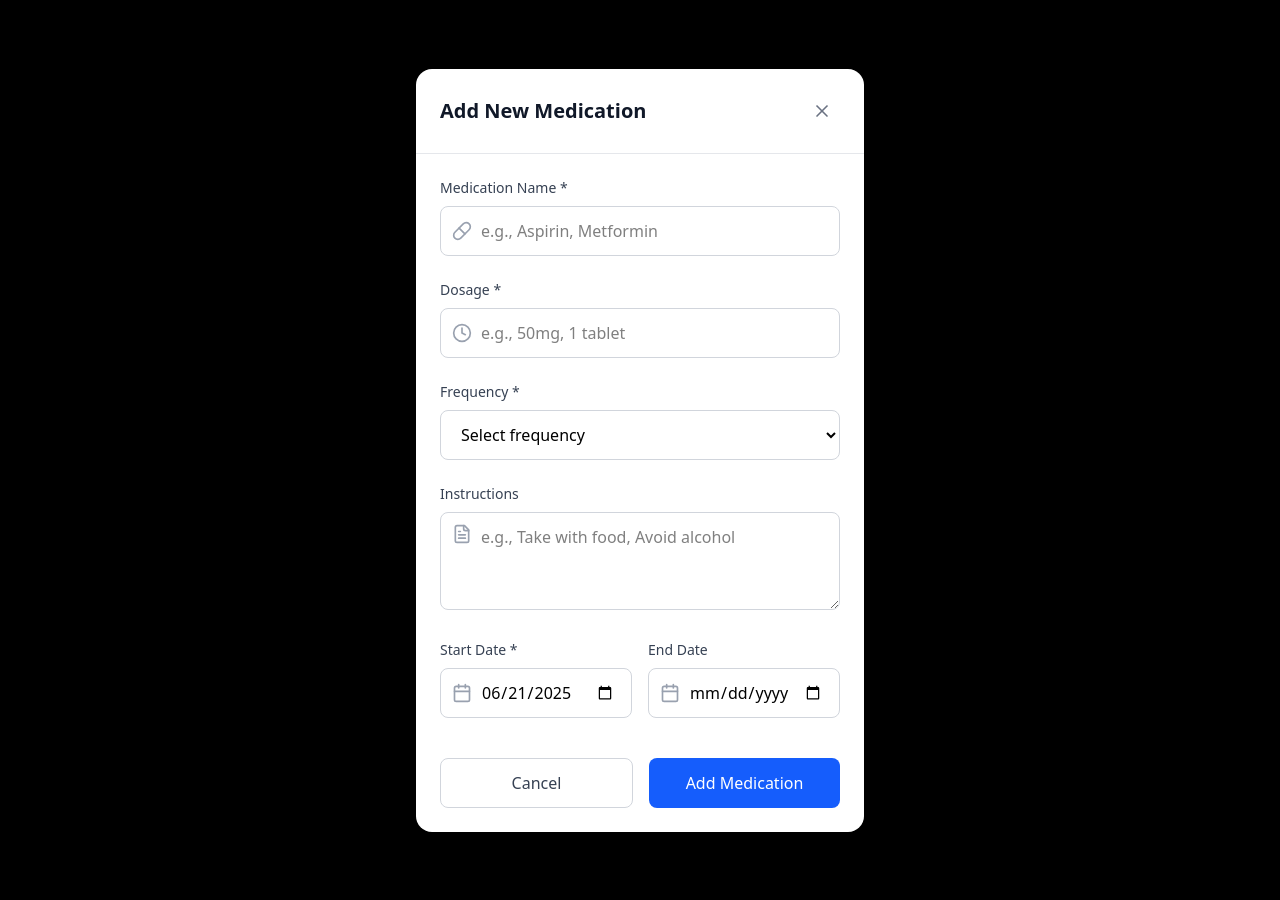
Test: MedicationForm › shows validation errors for required fields
What coordinates should you click on to do the following:
click the button "Add Medication"
I would click on:
 (744, 782)
Its box is [649,758,840,808].
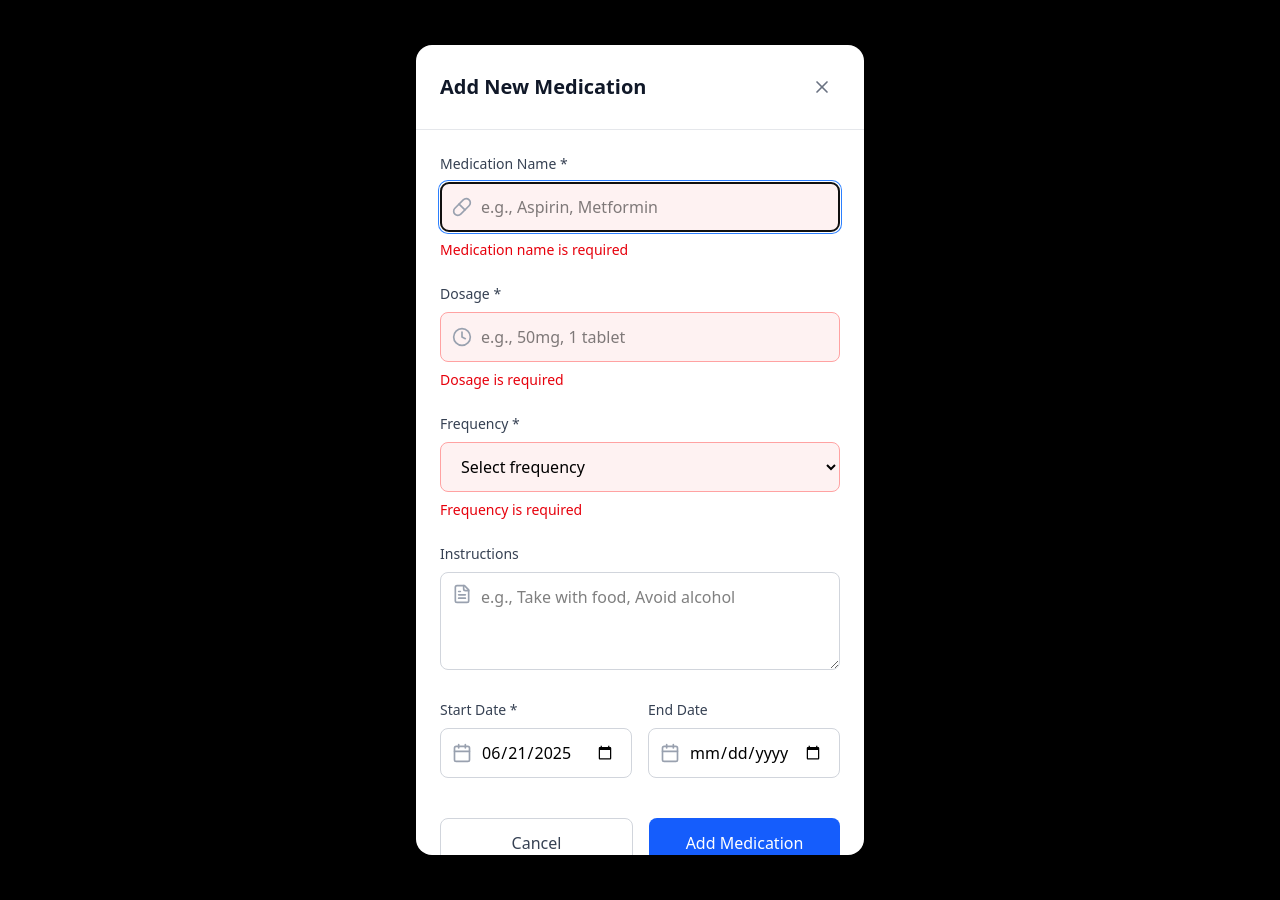
Now the text "Medication name is required" is shown, box [440,240,628,259]
Now the text "Dosage is required" is shown, box [440,370,564,389]
Now the text "Frequency is required" is shown, box [440,500,582,519]
